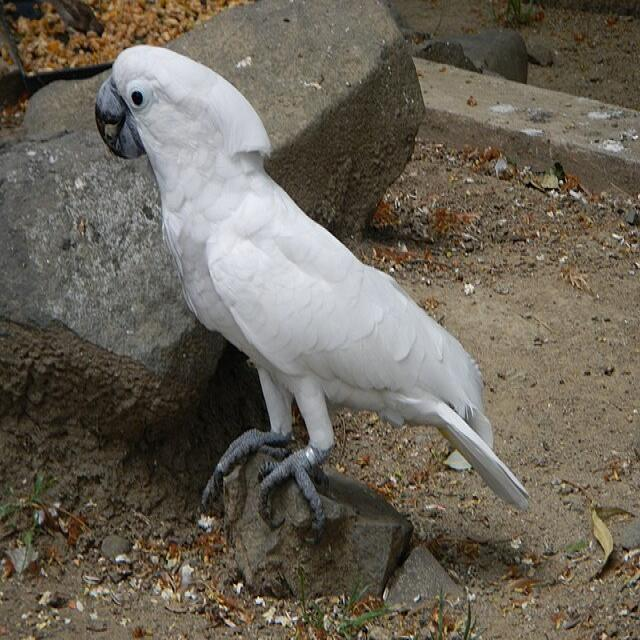Kakatua Putih: (81, 23, 546, 567)
